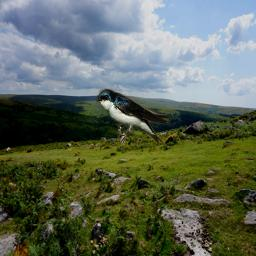Swallow: (96, 88, 172, 146)
